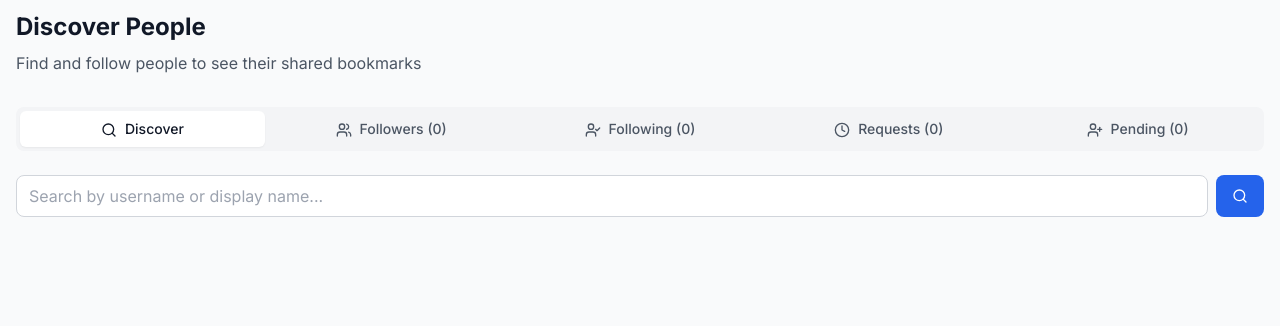
Scenario: Discover Page › Followers Tab › should show empty state when no followers
What coordinates should you click on to do the following:
click the button "Followers (0)"
I would click on:
 (391, 129)
Its box is [269,111,514,147].
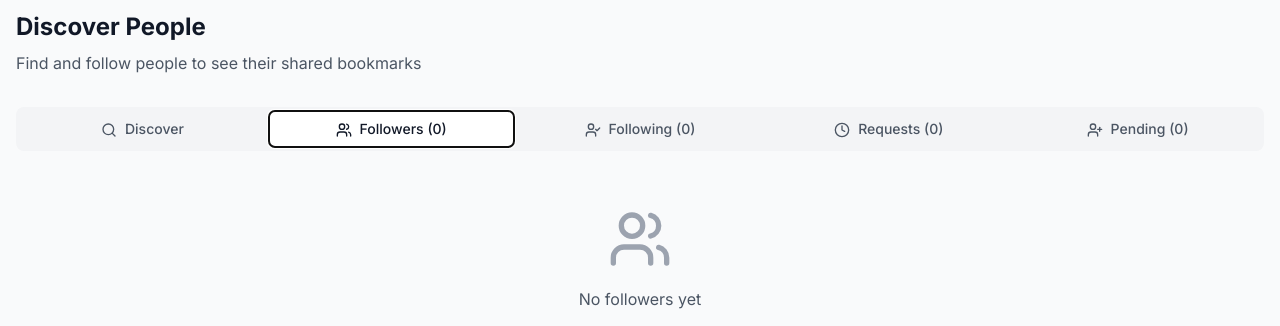
Expected: the text "No followers yet" is shown, [579,289,701,309]
